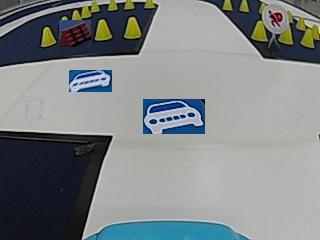thief: (262, 3, 289, 32)
